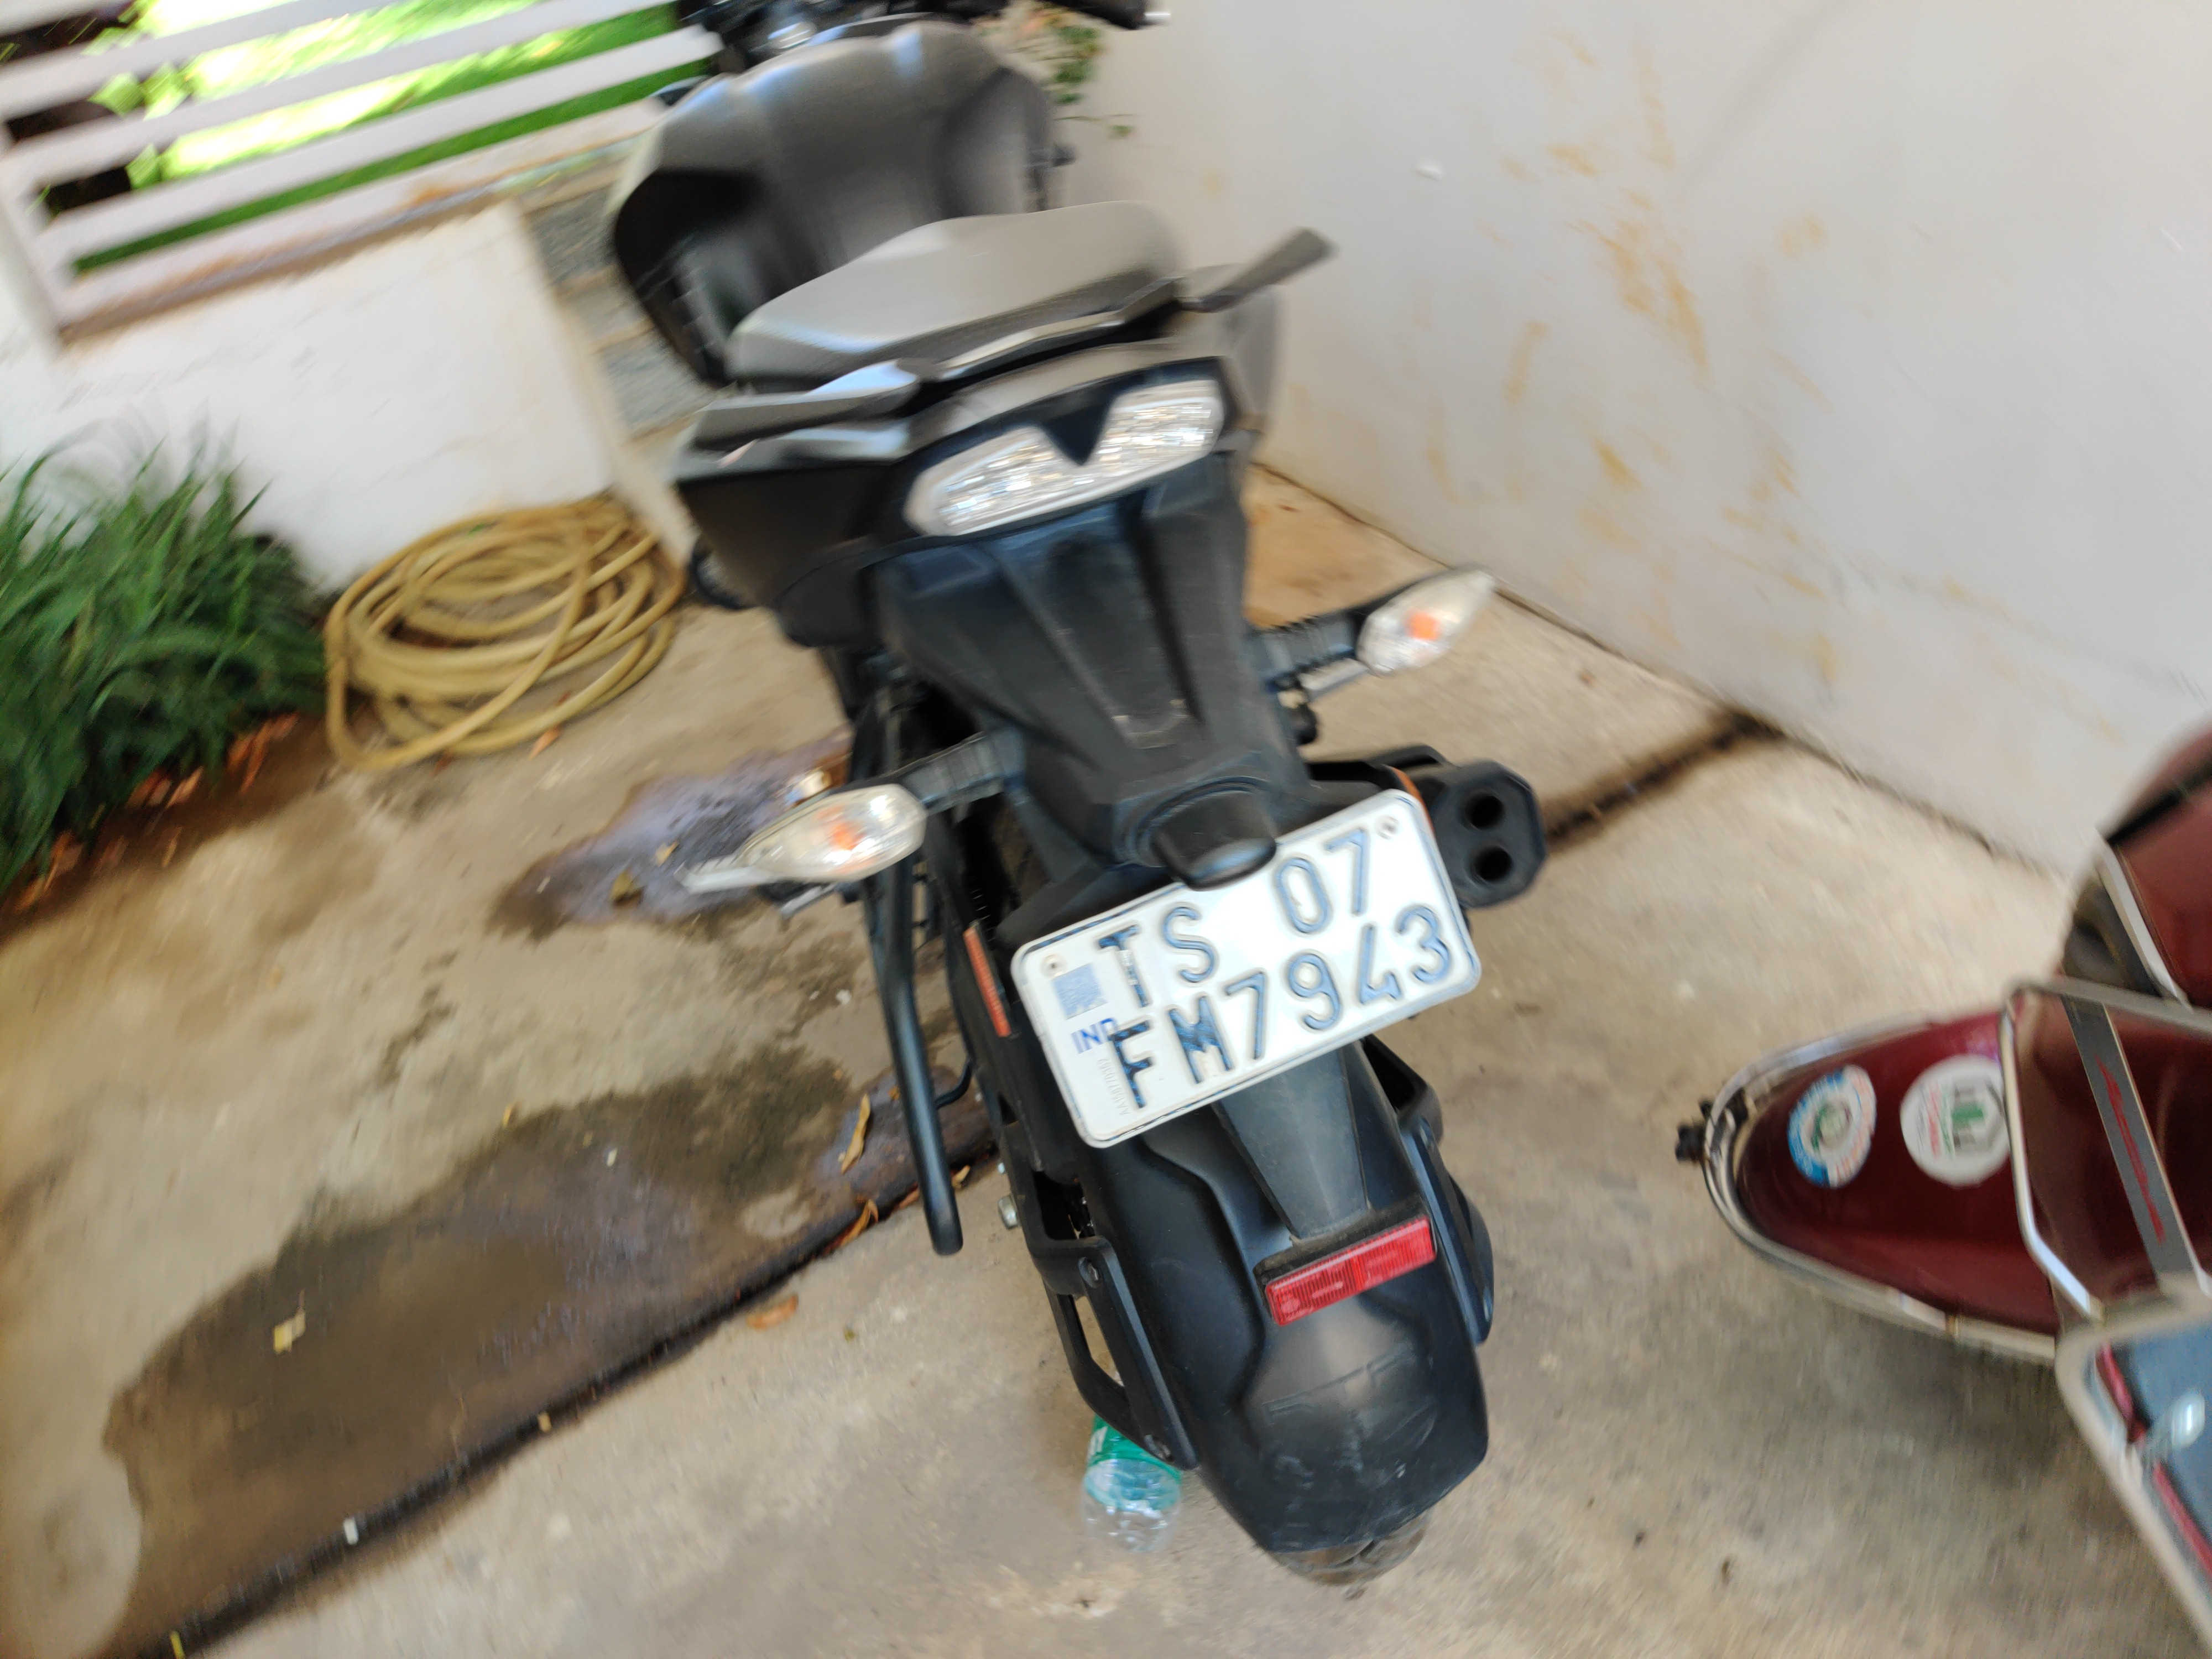plate: (995, 739, 1493, 1177)
